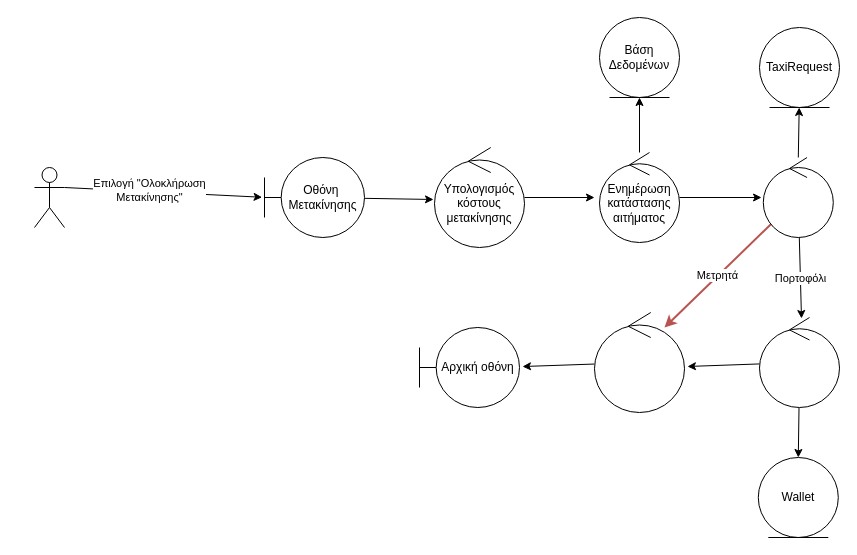
Some shapes in this 857 by 555 pixel diagram are drawn without their labels. Here are the shapes that lost their labels. From the top down, the centre of each, then its label:
the point at 49,197: Οδηγός Ταξί
the point at 797,197: Έλεγχος τρόπου πληρωμής
the point at 639,362: Εμφάνισε
the point at 799,362: Προσθήκη χρηματικού ποσού σε οδηγό
